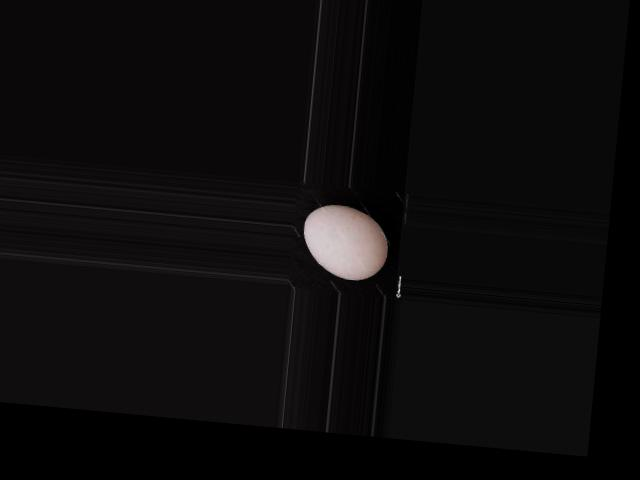egg: (300, 201, 391, 282)
